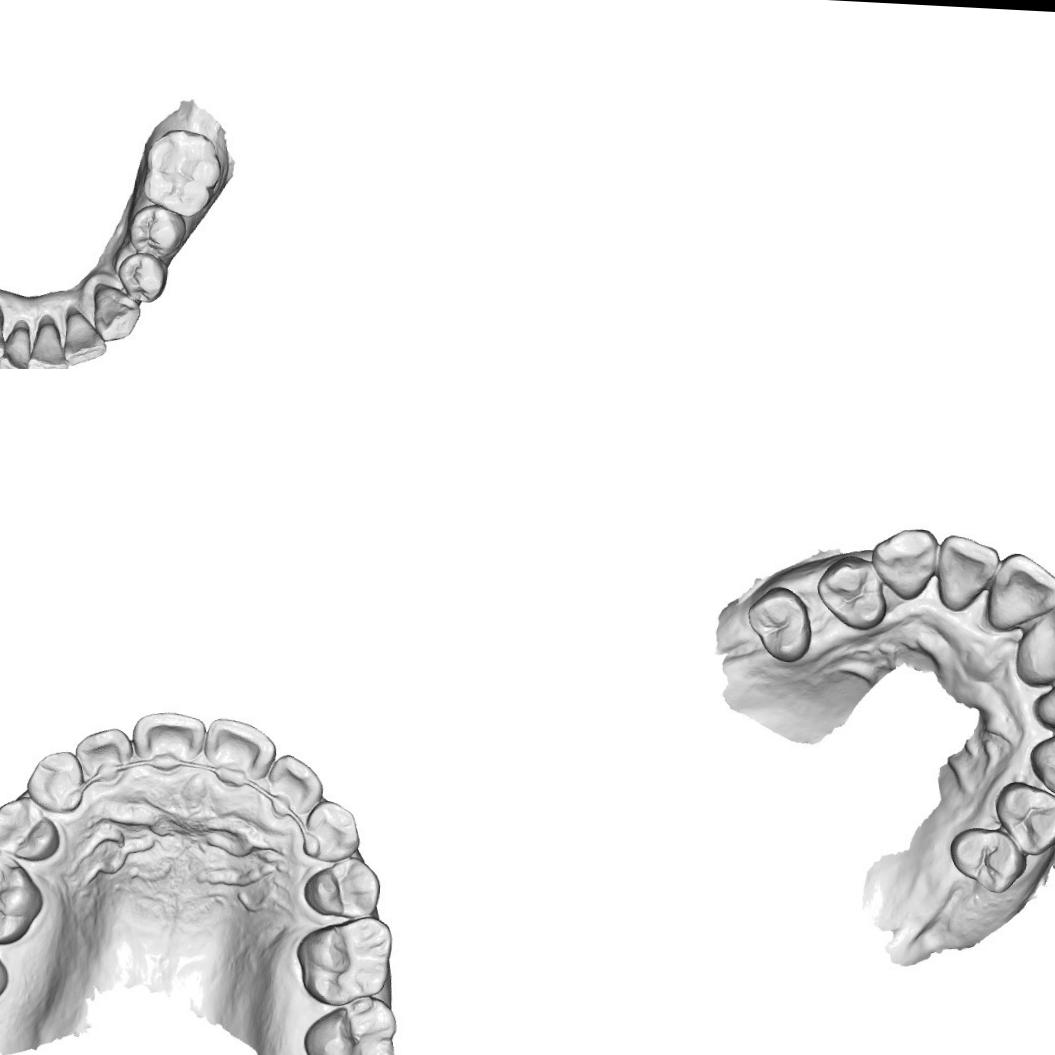canine: (873, 528, 936, 598), (26, 748, 90, 816), (301, 798, 362, 861), (88, 282, 144, 342), (1029, 727, 1055, 790)
incisor: (986, 547, 1055, 631), (937, 531, 999, 616), (132, 704, 205, 776), (202, 716, 276, 784), (72, 722, 138, 793), (1015, 595, 1055, 683), (268, 753, 325, 814), (61, 312, 110, 366), (24, 322, 72, 369), (0, 324, 38, 369), (1035, 665, 1055, 737)
molar: (293, 912, 396, 1006), (140, 124, 226, 219), (301, 991, 399, 1055), (0, 844, 43, 949)
premolar: (744, 578, 814, 666), (305, 854, 382, 923), (953, 823, 1026, 894), (821, 552, 885, 625), (0, 791, 59, 862), (998, 778, 1055, 849), (126, 202, 188, 260), (114, 249, 170, 306)
